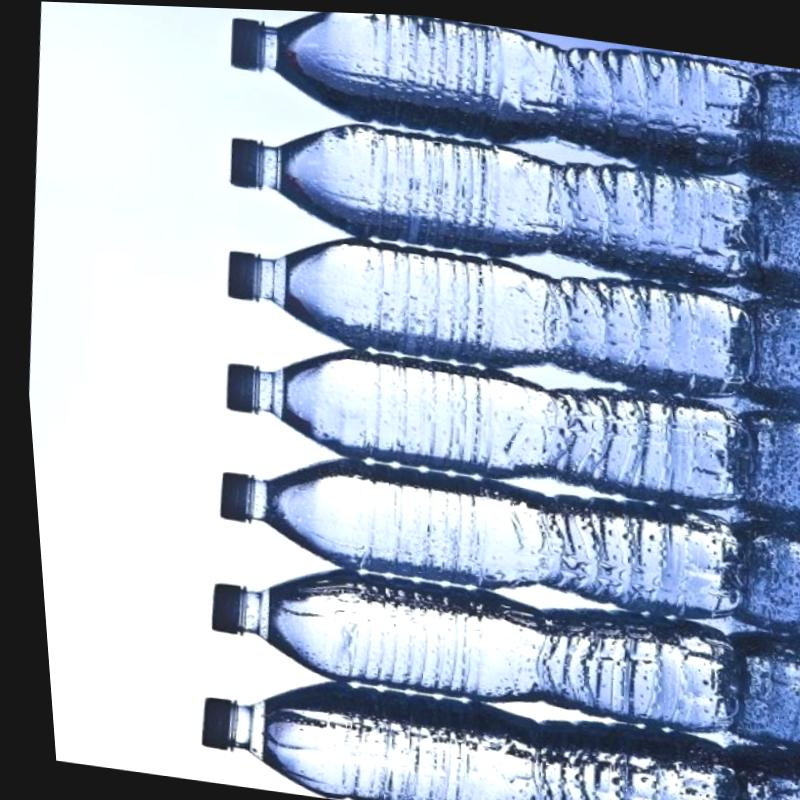botella: (202, 434, 552, 597), (210, 326, 560, 489), (195, 548, 545, 711), (217, 101, 566, 264), (211, 217, 561, 379), (223, 6, 566, 145), (181, 665, 530, 800)
